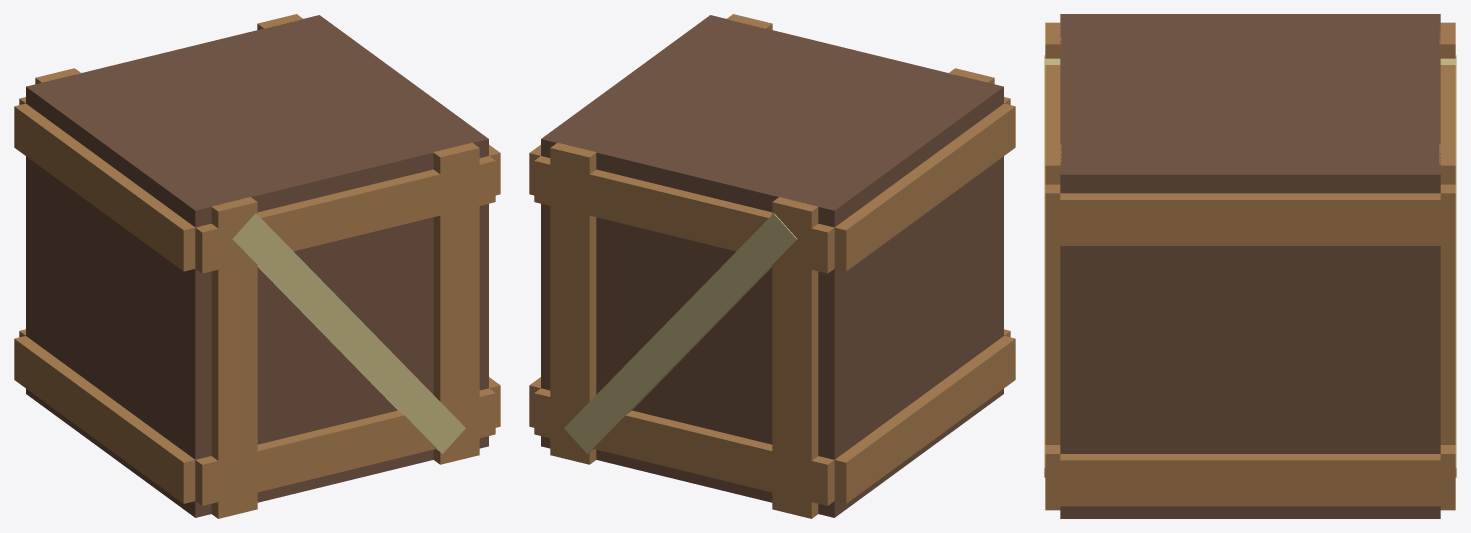
File: crate.glb
3 renders of one model, left to right at view 1: azimuth 30°, elevation 25°; view 2: azimuth 150°, elevation 25°; view 3: azimuth 270°, elevation 25°, orthographic. The views are drawn at different scales.
Visible parts, largest first — view 1: wood, woodLight (×6), sand; view 2: wood, woodLight (×6), sand; view 3: wood, woodLight (×10), sand (×2).
Part boxes in pixels (left/top/right/bottom): wood: left=26, top=15, right=488, bottom=517; woodLight (×6): left=14, top=103, right=495, bottom=518; sand: left=232, top=213, right=465, bottom=453; wood: left=541, top=15, right=1003, bottom=517; woodLight (×6): left=534, top=103, right=1015, bottom=518; sand: left=564, top=213, right=797, bottom=453; wood: left=1060, top=14, right=1440, bottom=518; woodLight (×10): left=1045, top=22, right=1455, bottom=510; sand (×2): left=1044, top=55, right=1456, bottom=477.
Bounding box in the file's own units: 0.885 × 0.82 × 0.89.
